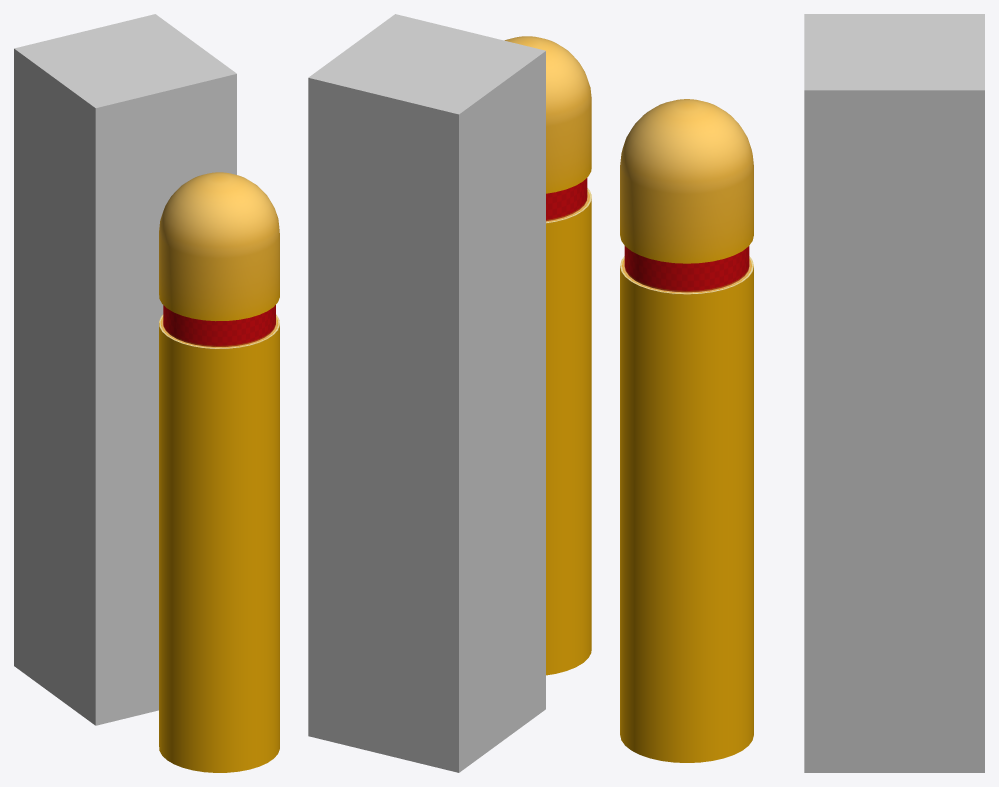
File: Bollard.glb
The picture shows the model from 3 angles, left to right: view 1: azimuth 30°, elevation 25°; view 2: azimuth 150°, elevation 25°; view 3: azimuth 270°, elevation 25°; orthographic projection. The views are drawn at different scales.
Visible parts, largest first — view 1: player -noimp, Bollard; view 2: player -noimp, Bollard; view 3: player -noimp, Bollard.
Part boxes in pixels (x1,y1,x2,y2): player -noimp: (14,14,236,725); Bollard: (159,172,279,772); player -noimp: (308,14,545,772); Bollard: (504,36,591,675); player -noimp: (804,14,984,772); Bollard: (620,99,753,762).
Size of what is drawn, in the model's own units: 0.4314 by 1.8 by 0.8719.
Materials: 1 (1 with a texture image).
